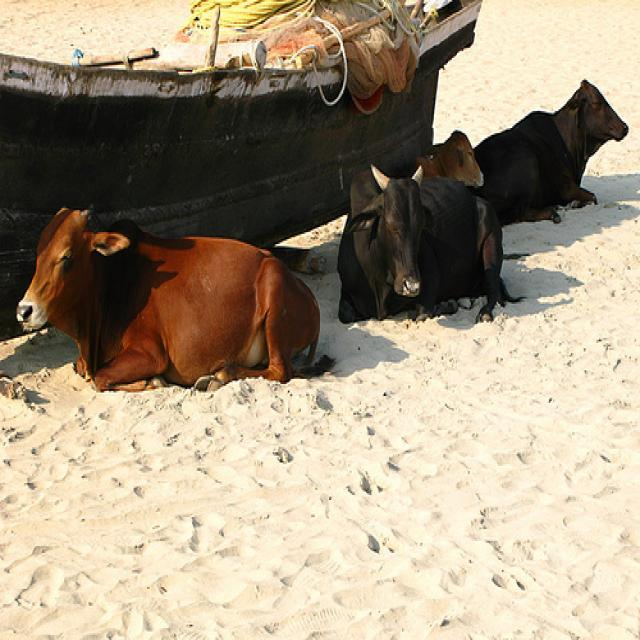cow: (14, 203, 332, 389), (337, 147, 520, 321), (453, 79, 629, 224), (398, 128, 483, 186)
